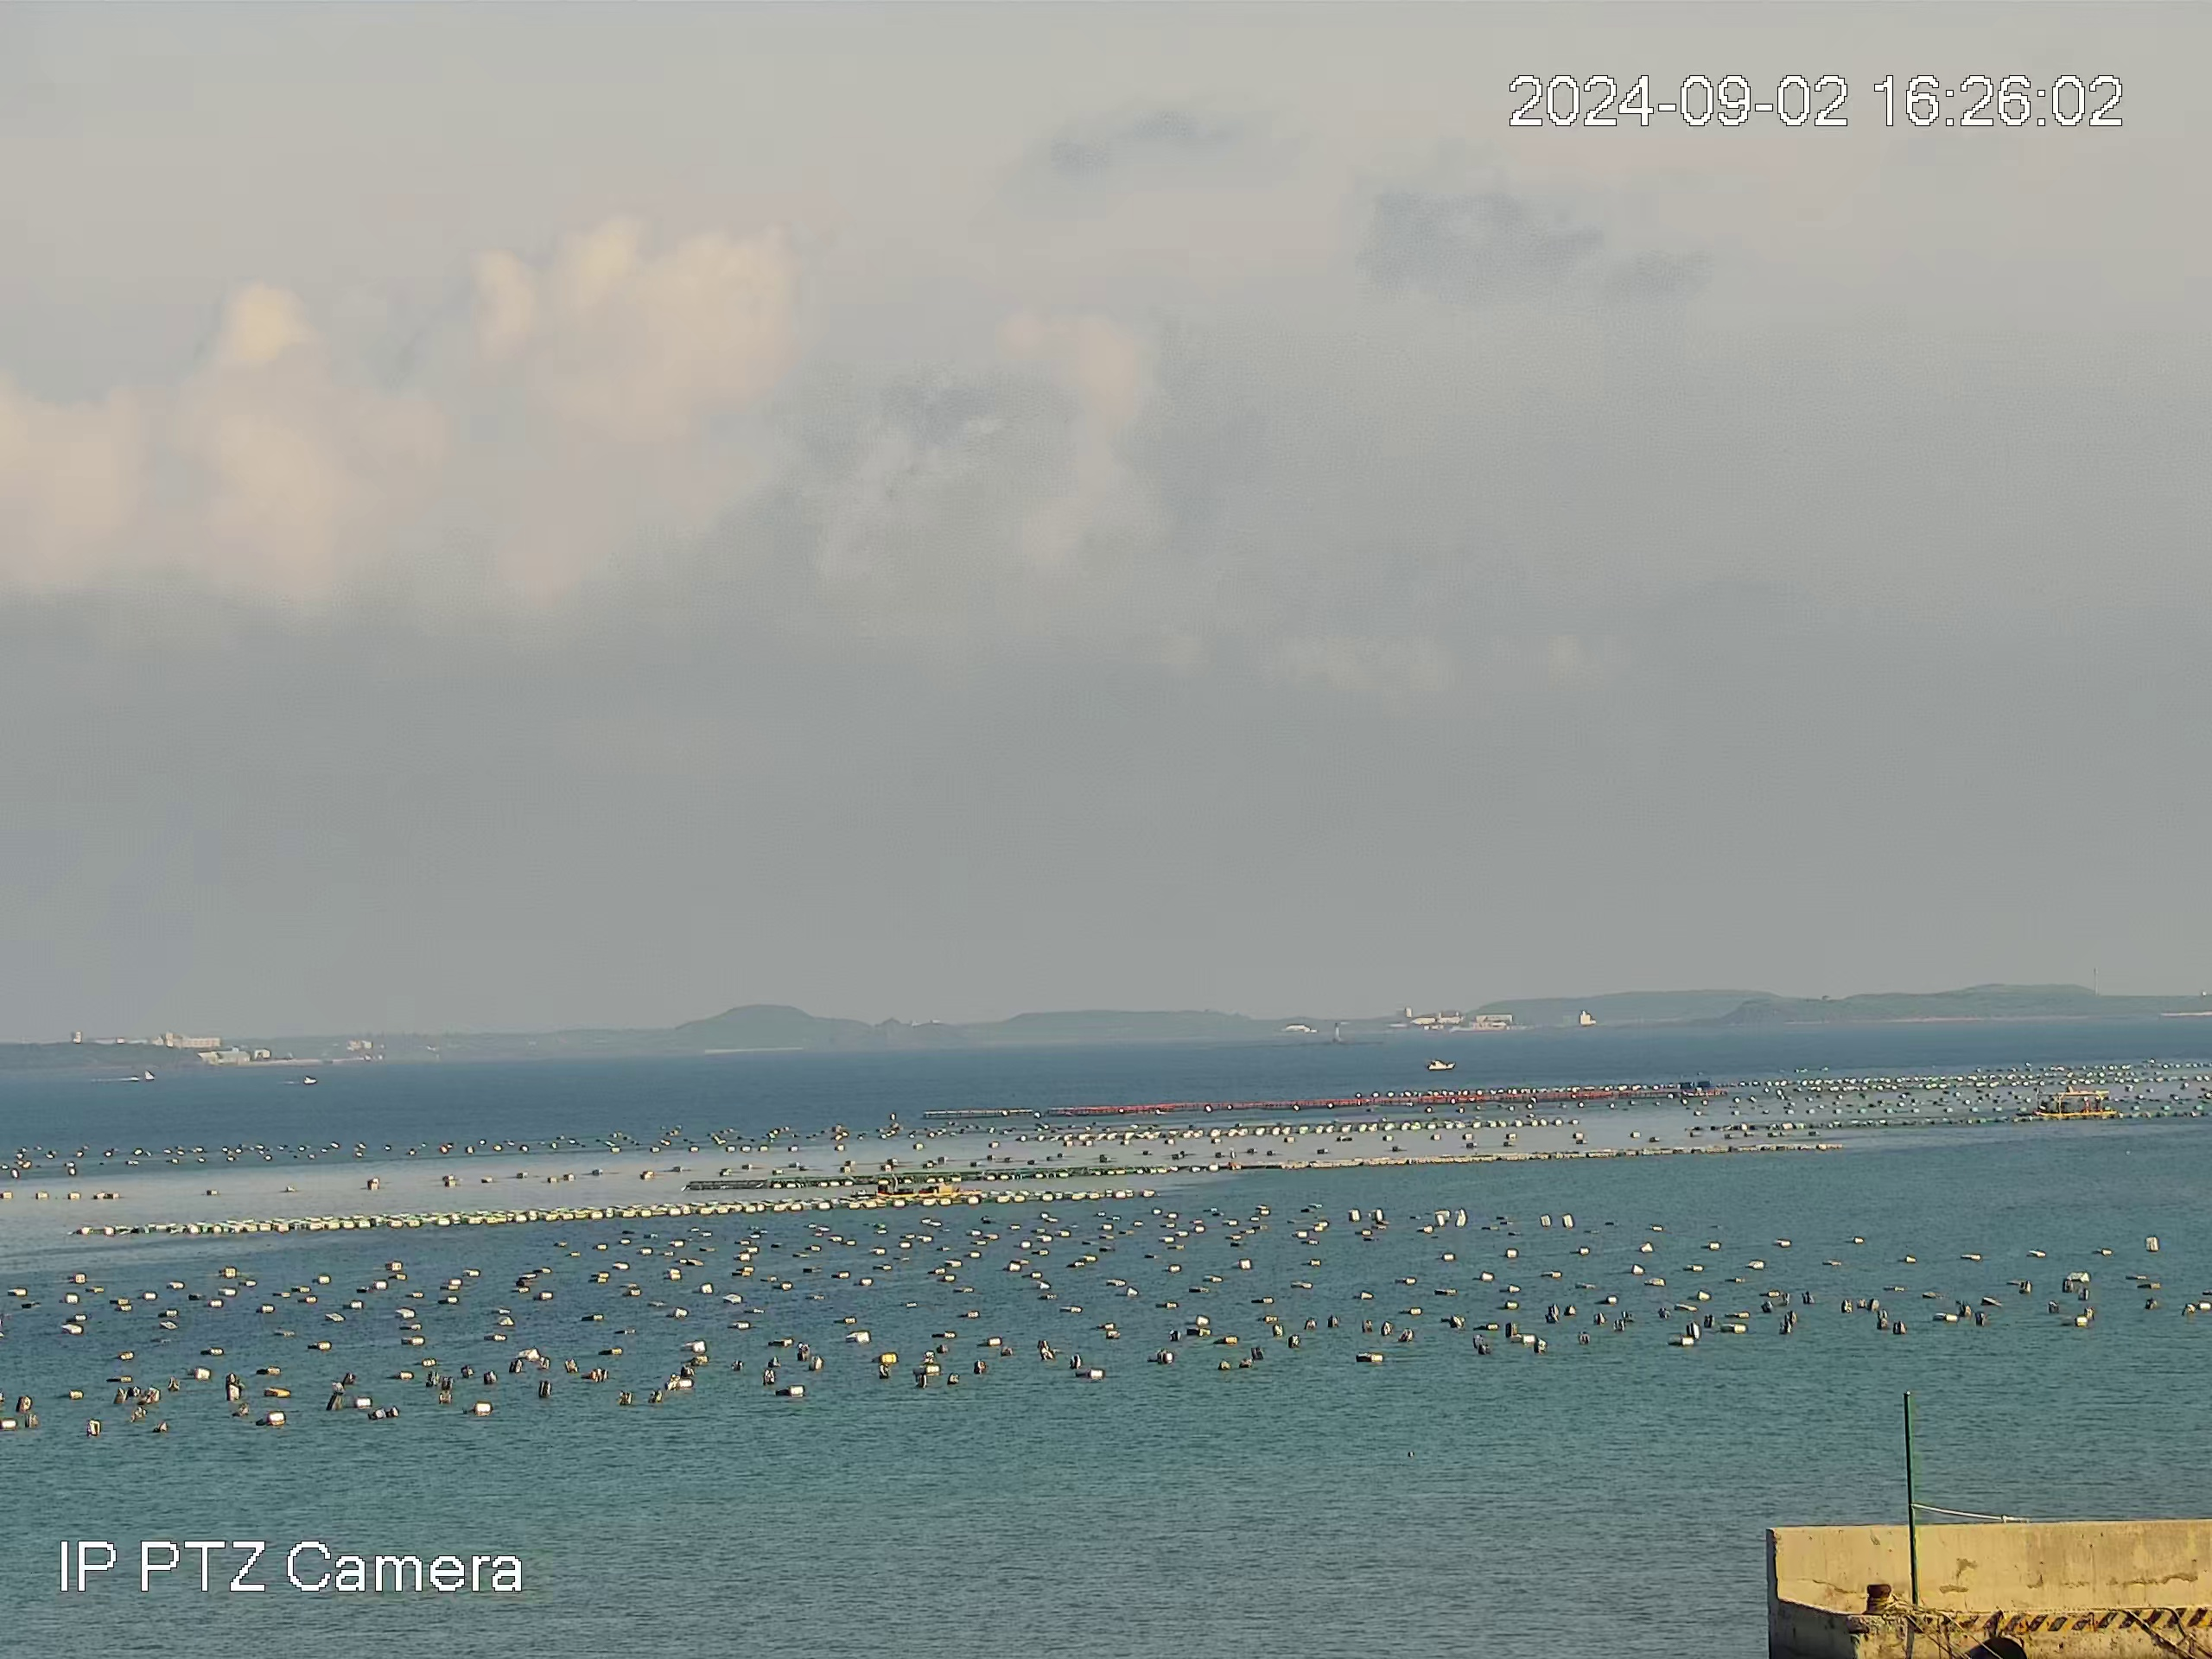boat: (2031, 1089, 2118, 1121), (874, 1175, 982, 1199), (1425, 1058, 1458, 1072)
